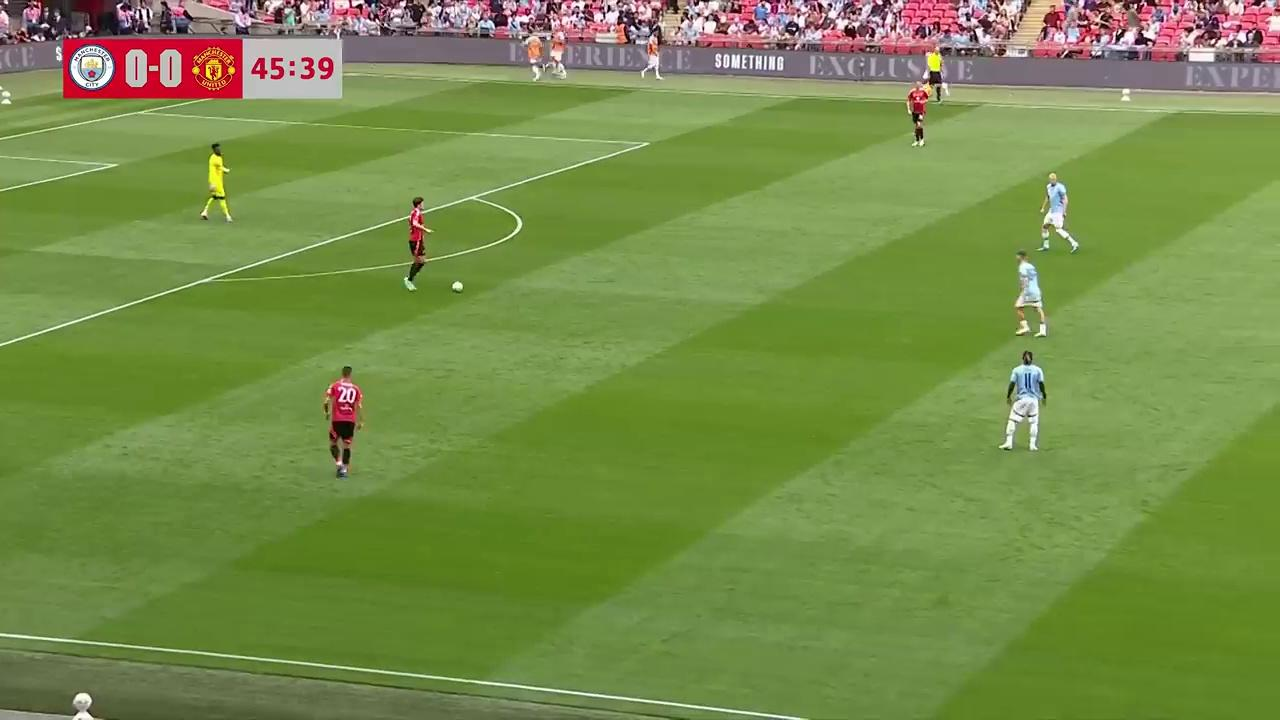ball: (451, 277, 464, 293)
player: (998, 349, 1047, 452), (322, 365, 364, 479), (1039, 172, 1079, 253), (1014, 249, 1048, 337), (199, 142, 234, 222), (404, 202, 432, 290), (906, 85, 927, 148)
referee: (926, 52, 948, 104)
